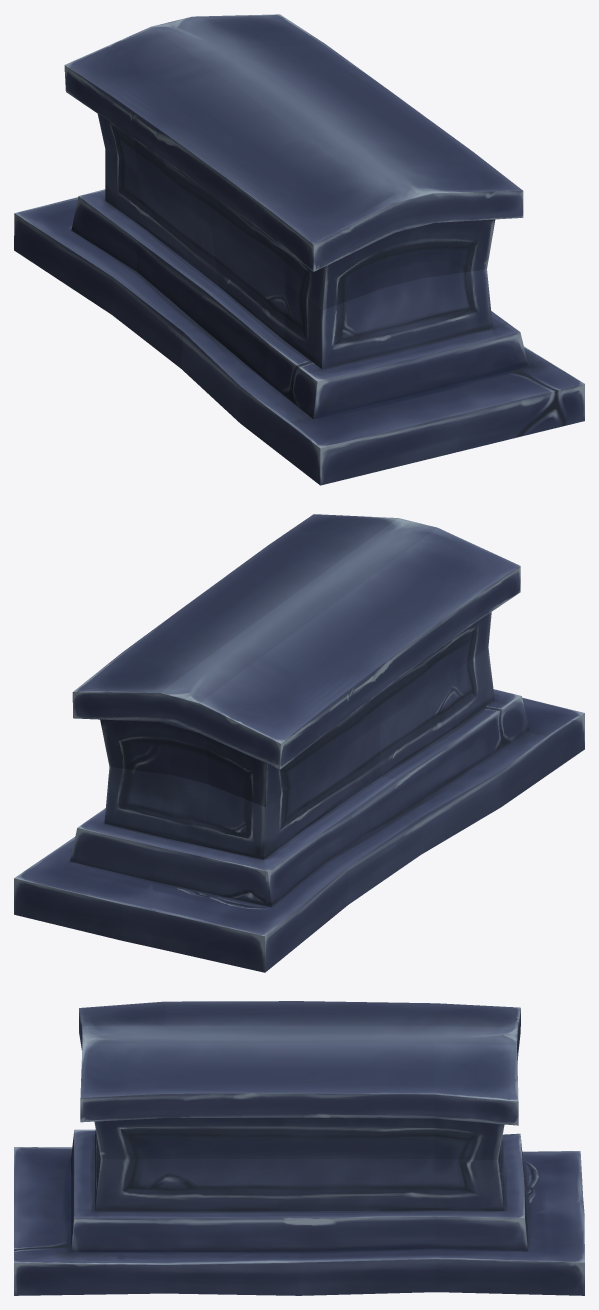
The model's file is tomb2_1.fbx.
3 renders of one model, top to bottom at view 1: azimuth 30°, elevation 25°; view 2: azimuth 150°, elevation 25°; view 3: azimuth 270°, elevation 25°, orthographic. The views are drawn at different scales.
Visible parts, largest first — view 1: Cube.011; view 2: Cube.011; view 3: Cube.011.
Boxes of the visible parts, box(x1,y1,x2,y2) form: Cube.011: box(14, 14, 584, 485); Cube.011: box(14, 514, 584, 972); Cube.011: box(14, 1001, 584, 1295).
Bounding box in the file's own units: 328 × 269 × 684.
